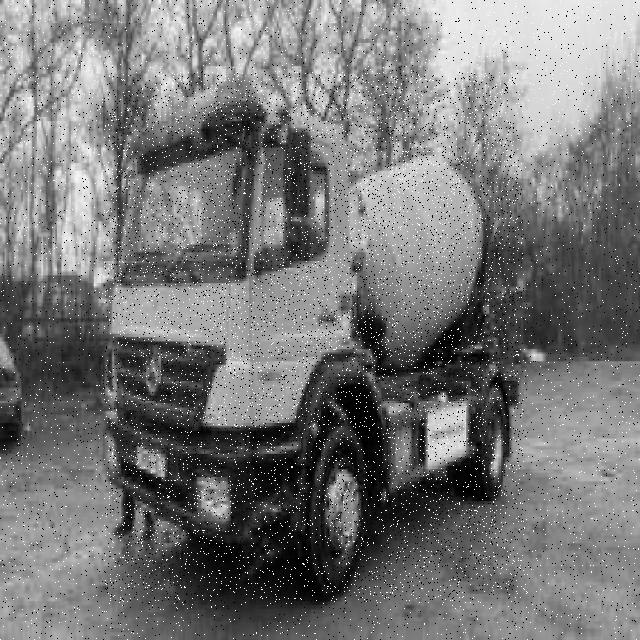Concrete Mixer: (104, 72, 523, 603)
